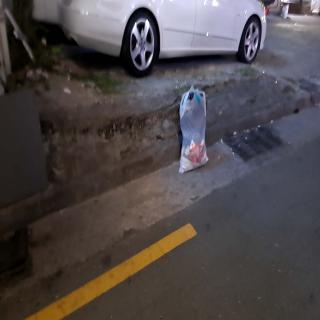Garbage: (177, 85, 213, 175)
